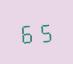five: (36, 20, 52, 43)
six: (19, 20, 35, 44)
